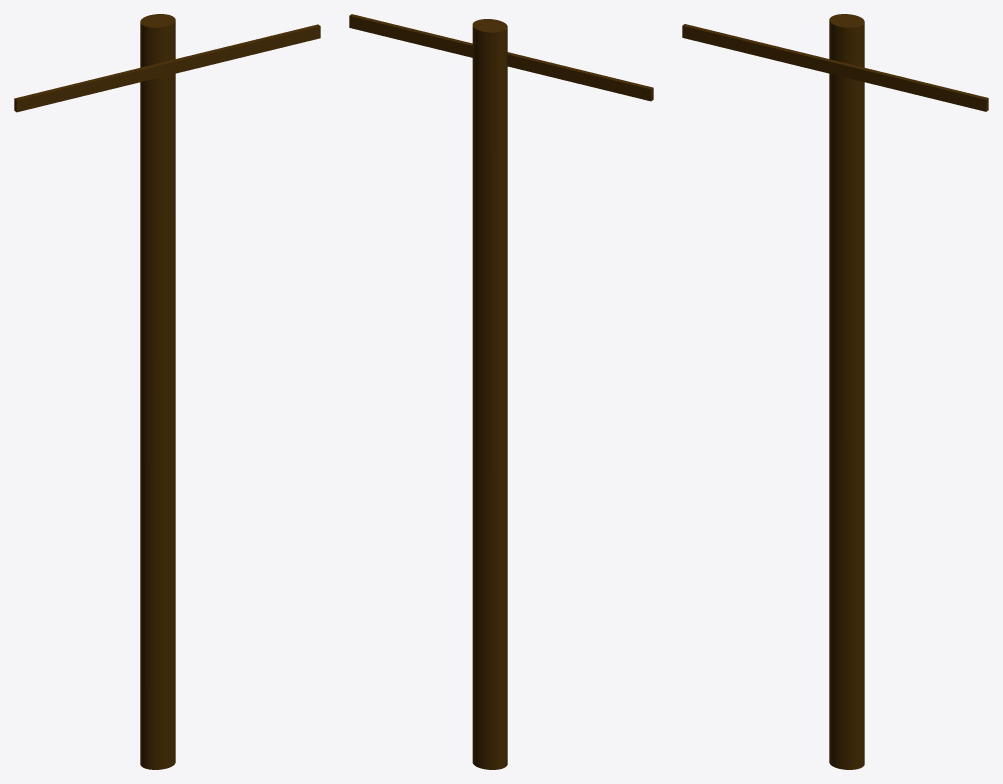
Rendered from power_line_04.glb.
The picture shows the model from 3 angles, left to right: view 1: azimuth 30°, elevation 25°; view 2: azimuth 150°, elevation 25°; view 3: azimuth 330°, elevation 25°; orthographic projection.
Visible parts, largest first — view 1: PowerLine04; view 2: PowerLine04; view 3: PowerLine04.
Part boxes in pixels (left/top/right/bottom): PowerLine04: left=14, top=14, right=320, bottom=769; PowerLine04: left=349, top=14, right=653, bottom=769; PowerLine04: left=682, top=14, right=988, bottom=769.
Size of the model in its own units: 9 by 21 by 1.
